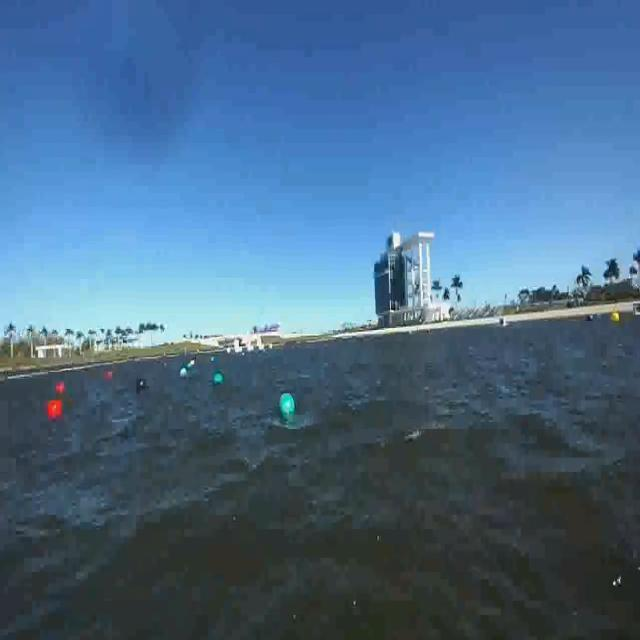black-buoy: (136, 373, 146, 390)
green-buoy: (280, 392, 296, 416), (213, 366, 224, 385)
red-buoy: (47, 399, 63, 418)
yellow-buoy: (613, 308, 622, 322)
